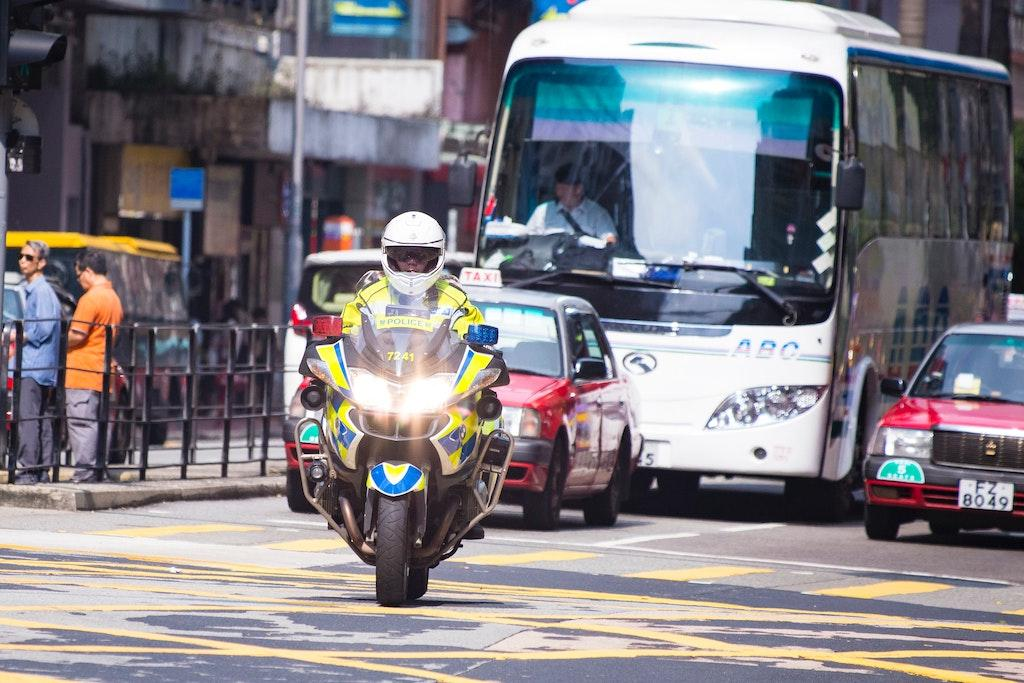helmet: (380, 210, 447, 297)
